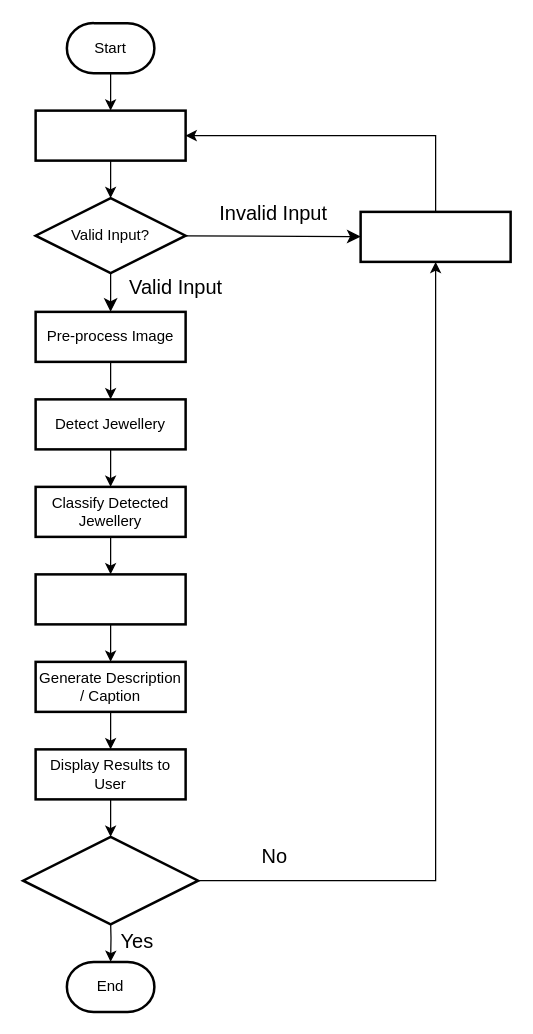
This 533x1034 diagram has some shape labels left out. Each missing label, with the centre of its shape:
"Extract Features" belongs at point (110, 598).
"Prompt Re-upload" belongs at point (435, 236).
"User Satisfied with Output?" belongs at point (110, 880).
"User Uploads Image" belongs at point (110, 135).
